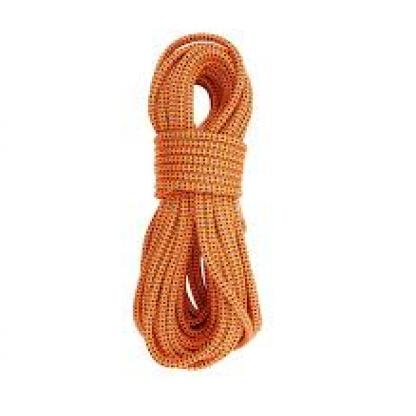Rope: (132, 31, 263, 372)
